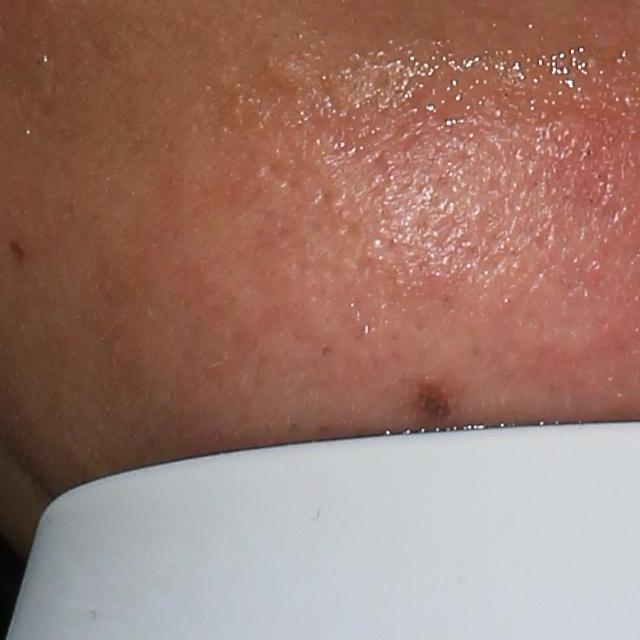nevus: (411, 377, 457, 422), (9, 239, 30, 264)
